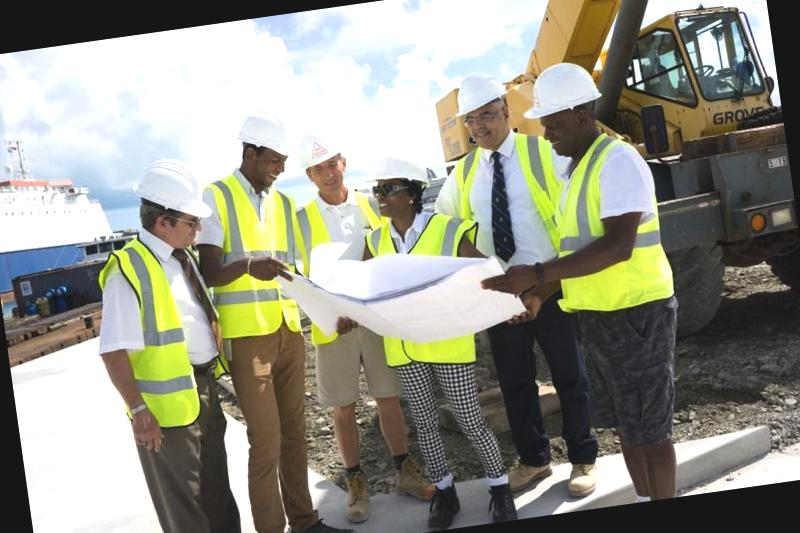helmet: (125, 148, 212, 236), (518, 54, 606, 122), (228, 100, 302, 170), (362, 142, 436, 198), (445, 69, 515, 122), (294, 124, 347, 175)
person: (516, 50, 708, 510), (74, 143, 264, 533), (353, 132, 524, 533), (199, 100, 356, 533), (443, 69, 580, 520), (287, 100, 412, 533)
